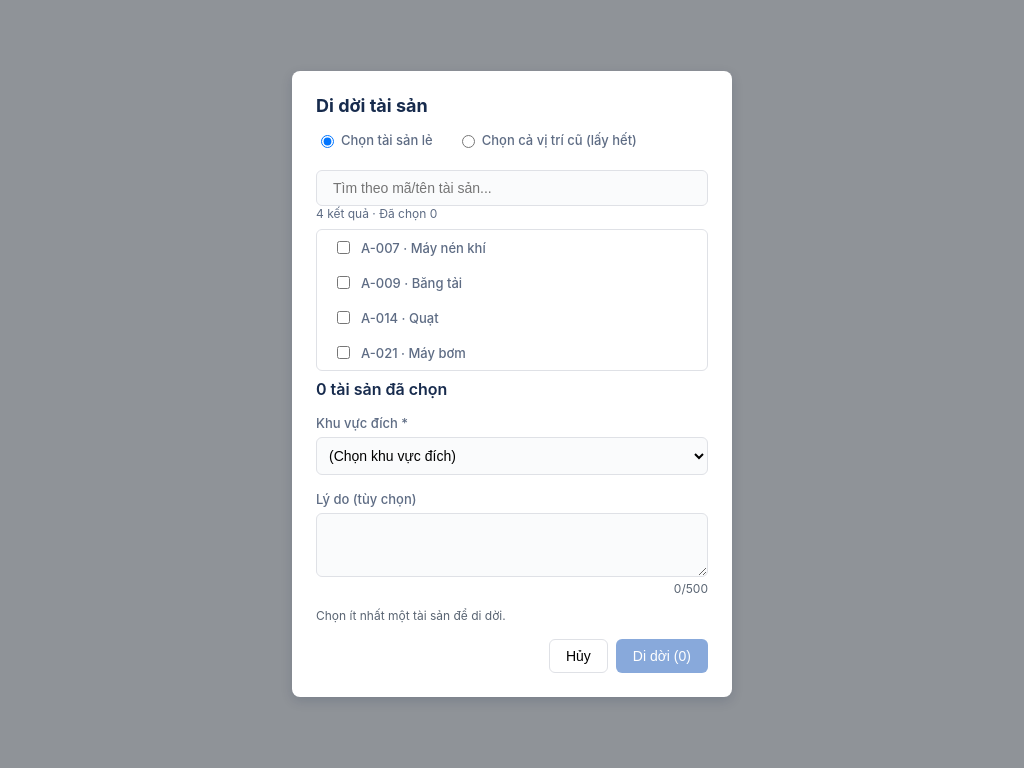
DiDoiForm — chọn cả vị trí cũ (F13) › TC-S04-08: nguồn rỗng (Phòng 309) → báo không có tài sản
Click the radio button labelled "Chọn cả vị trí cũ (lấy hết)": (468, 142) [462, 135, 475, 148]
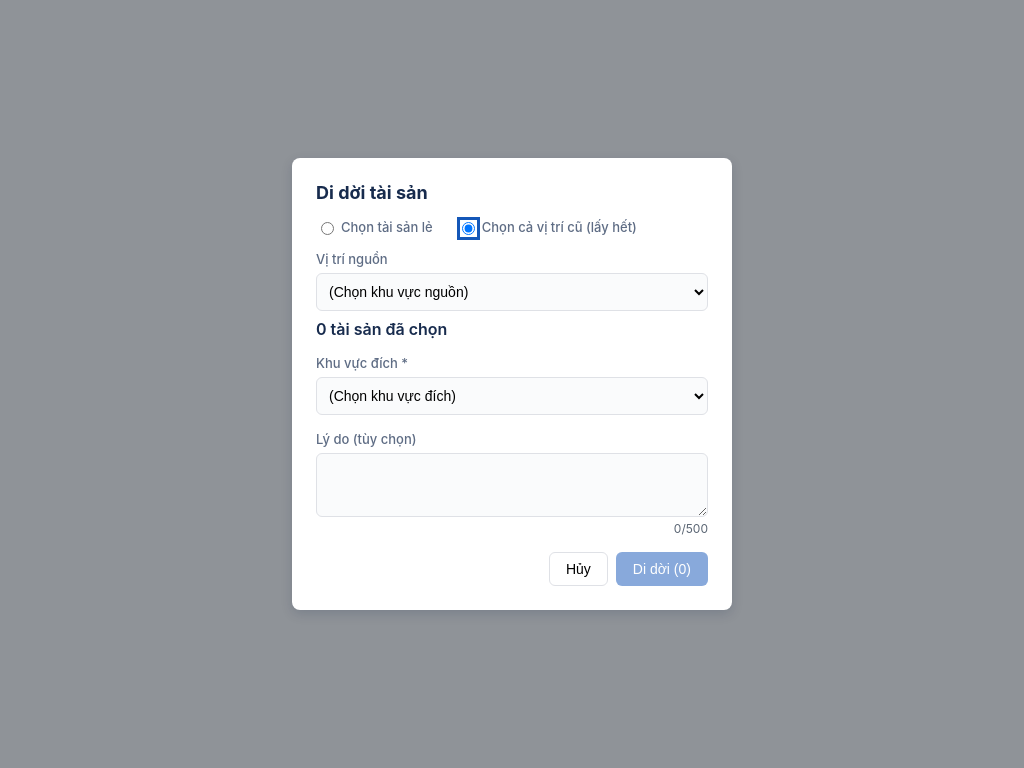
Select "Phòng 309" in the dropdown labelled "Vị trí nguồn": (512, 292) [316, 273, 708, 311]
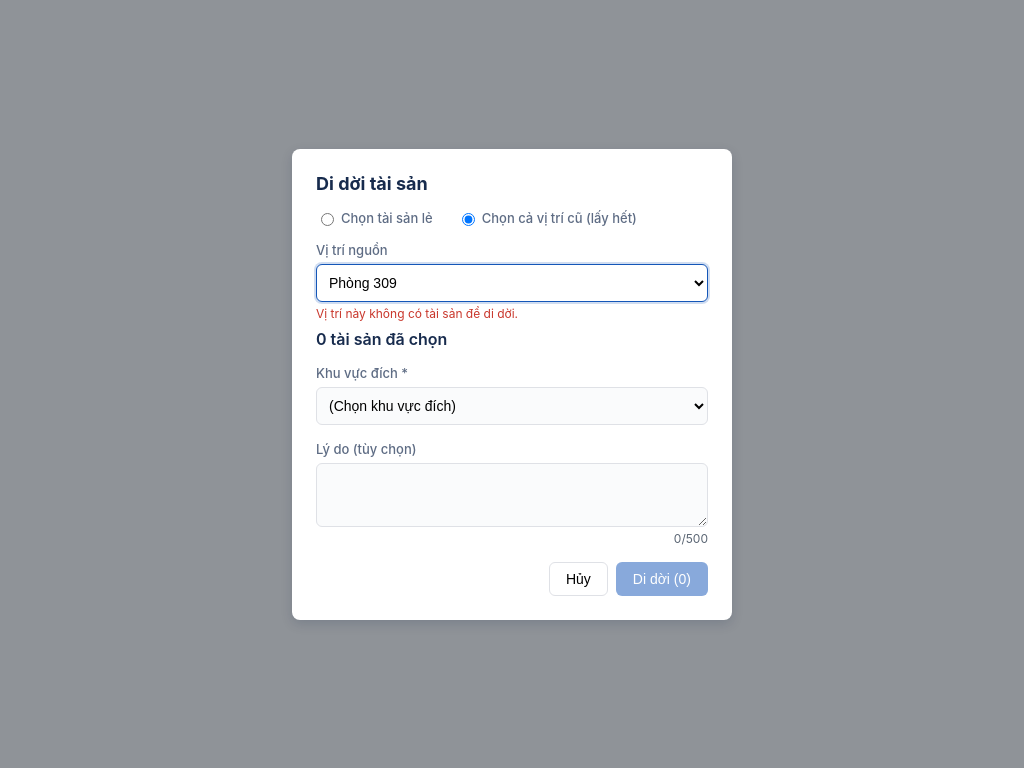
Expected: the text "Vị trí này không có tài sản để di dời." is shown, [316, 306, 518, 320]
